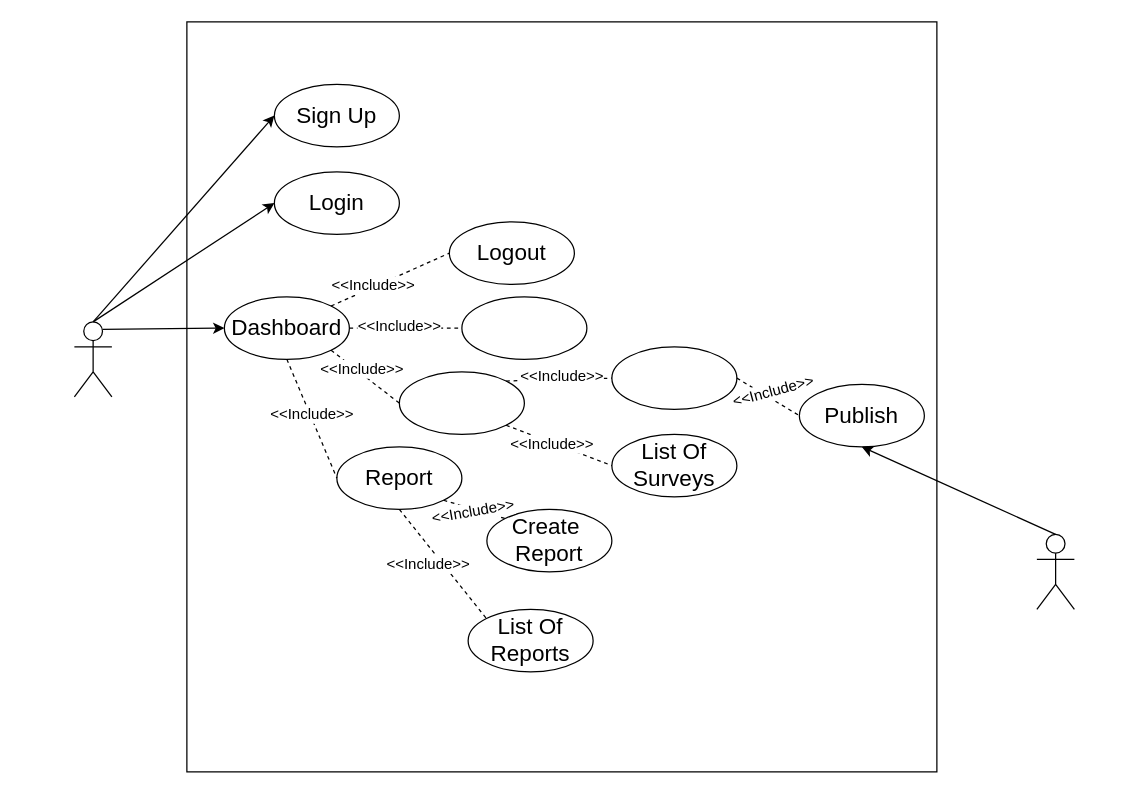
Some shapes in this 1140 by 794 pixel diagram are drawn without their labels. Here are the shapes that lost their labels. From the top down, the centre of each, then its label:
At pixel 524 327: "Edit Profile".
At pixel 92 359: "Survey Creator".
At pixel 674 377: "Create Survey".
At pixel 461 402: "Survey".
At pixel 1055 571: "Survey Takers".
